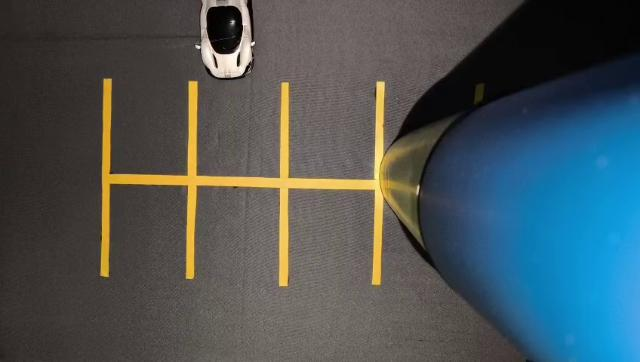toy_car: (183, 0, 291, 93)
